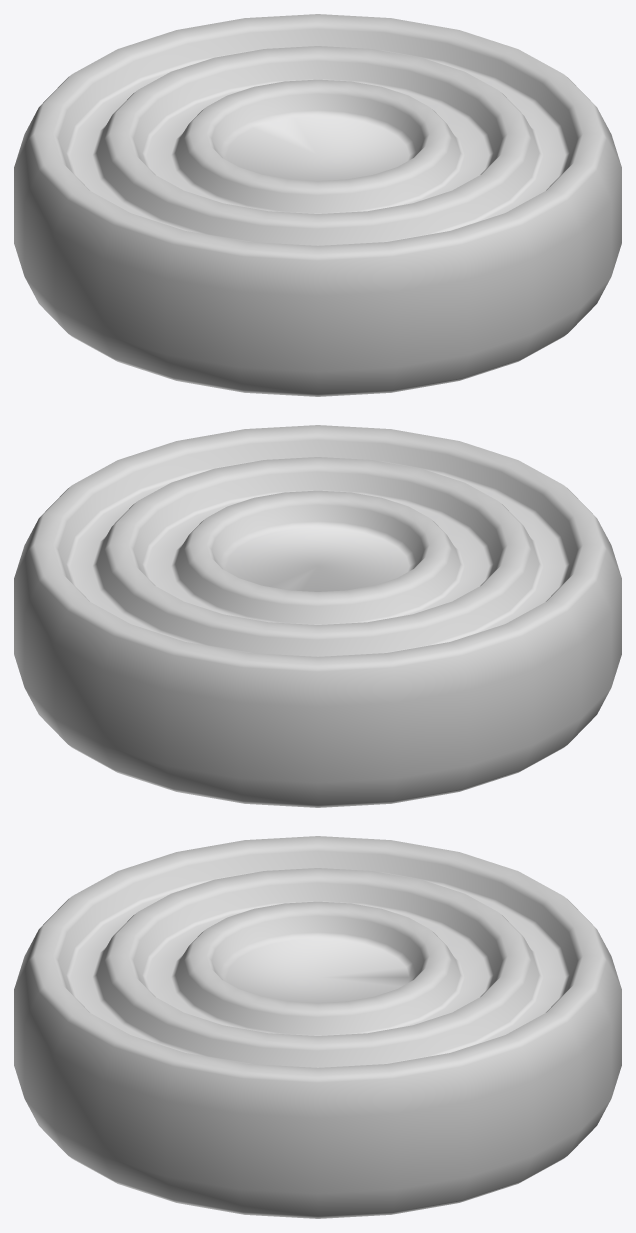
File: Checker_Piece_White_01.fbx
3 renders of one model, top to bottom at view 1: azimuth 30°, elevation 25°; view 2: azimuth 150°, elevation 25°; view 3: azimuth 270°, elevation 25°, orthographic.
Parts seen in each view (by area): view 1: Checker_Piece_White_01; view 2: Checker_Piece_White_01; view 3: Checker_Piece_White_01.
Boxes of the visible parts, x1,y1,x2,y2 form: Checker_Piece_White_01: (14, 14, 621, 396); Checker_Piece_White_01: (14, 425, 621, 807); Checker_Piece_White_01: (14, 836, 621, 1218).
Bounding box in the file's own units: 3.88 × 1.05 × 3.88.
